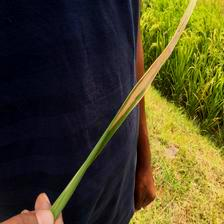2 BacterialBlight: (110, 3, 190, 130)
